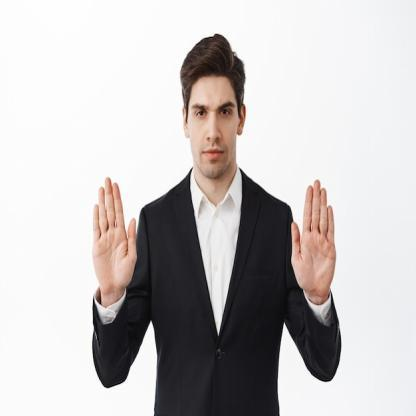stop: (289, 178, 342, 298), (89, 174, 142, 291)
